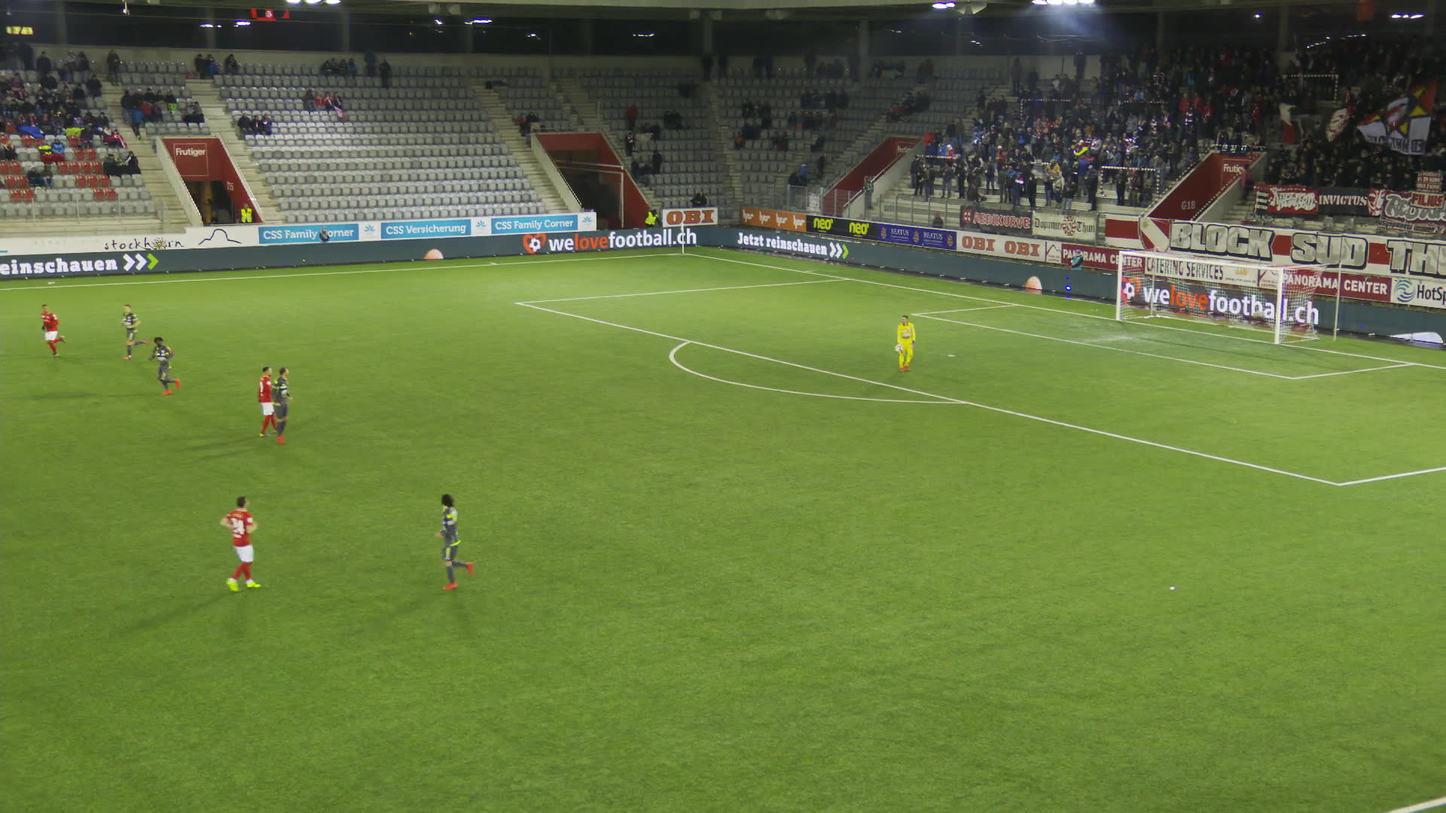ball: (895, 343, 905, 352)
player: (432, 491, 474, 587), (220, 495, 260, 592), (152, 336, 185, 395), (120, 304, 149, 358), (40, 302, 69, 353), (273, 368, 292, 440), (892, 315, 915, 372), (258, 367, 276, 437)
